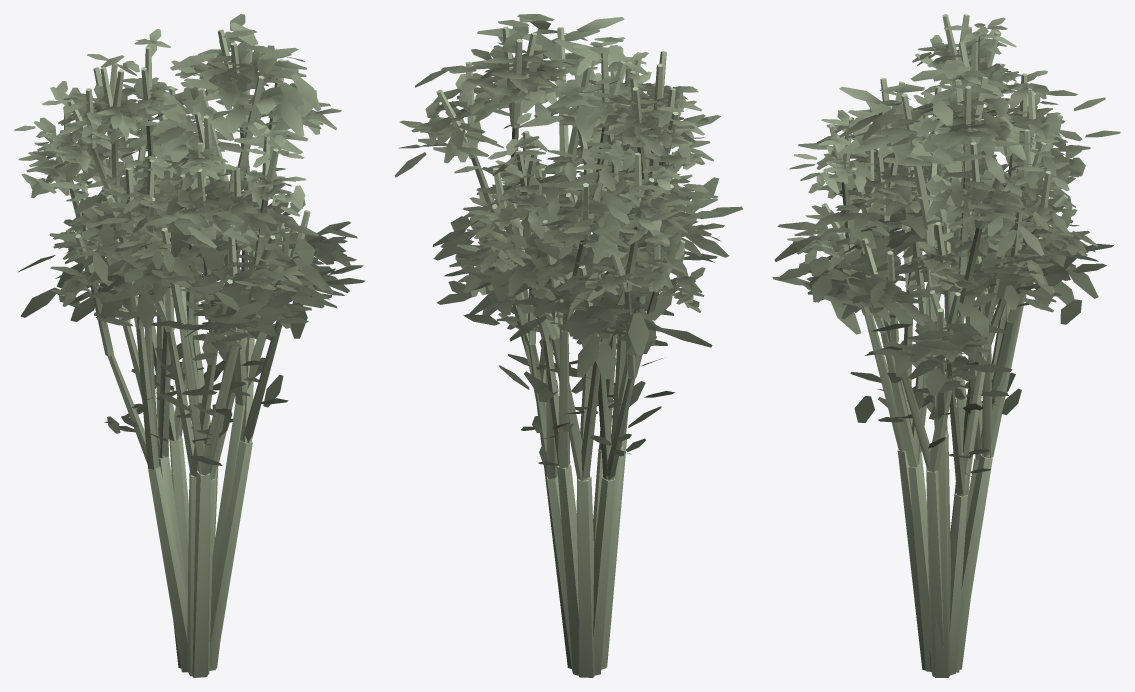
File: tree_willow.glb
The picture shows the model from 3 angles, left to right: view 1: azimuth 30°, elevation 25°; view 2: azimuth 150°, elevation 25°; view 3: azimuth 270°, elevation 25°; orthographic projection. The views are drawn at different scales.
Visible parts, largest first — view 1: tier0_foliage, tier1_foliage, tier2_foliage, tier2_bark, tier1_bark, tier0_bark; view 2: tier2_foliage, tier1_foliage, tier0_foliage, tier2_bark, tier1_bark, tier0_bark; view 3: tier1_foliage, tier0_foliage, tier2_foliage, tier2_bark, tier1_bark, tier0_bark.
Part boxes in pixels (left/top/right/bottom): tier0_foliage: left=18, top=22, right=365, bottom=465; tier1_foliage: left=26, top=14, right=357, bottom=441; tier2_foliage: left=14, top=29, right=320, bottom=435; tier2_bark: left=46, top=47, right=296, bottom=674; tier1_bark: left=86, top=29, right=310, bottom=676; tier0_bark: left=92, top=75, right=291, bottom=677; tier2_foliage: left=449, top=37, right=718, bottom=465; tier1_foliage: left=394, top=14, right=724, bottom=431; tier0_foliage: left=432, top=17, right=742, bottom=414; tier2_bark: left=481, top=47, right=685, bottom=675; tier1_bark: left=436, top=26, right=673, bottom=675; tier0_bark: left=512, top=27, right=634, bottom=677; tier1_foliage: left=798, top=60, right=1120, bottom=448; tier0_foliage: left=772, top=60, right=1113, bottom=422; tier2_foliage: left=787, top=17, right=1097, bottom=477; tier2_bark: left=821, top=14, right=1067, bottom=675; tier1_bark: left=851, top=76, right=1062, bottom=676; tier0_bark: left=836, top=86, right=1044, bottom=677.
Size of the model in its own units: 0.5121 by 1 by 0.5045.
